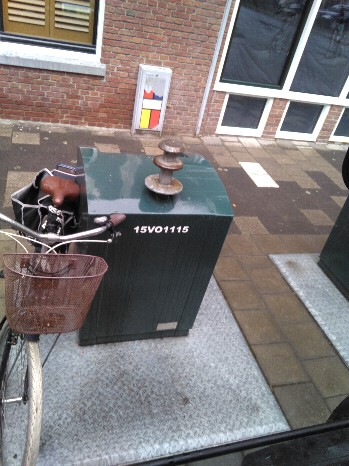Container: (82, 151, 205, 343)
Voertuig: (9, 175, 67, 466)
